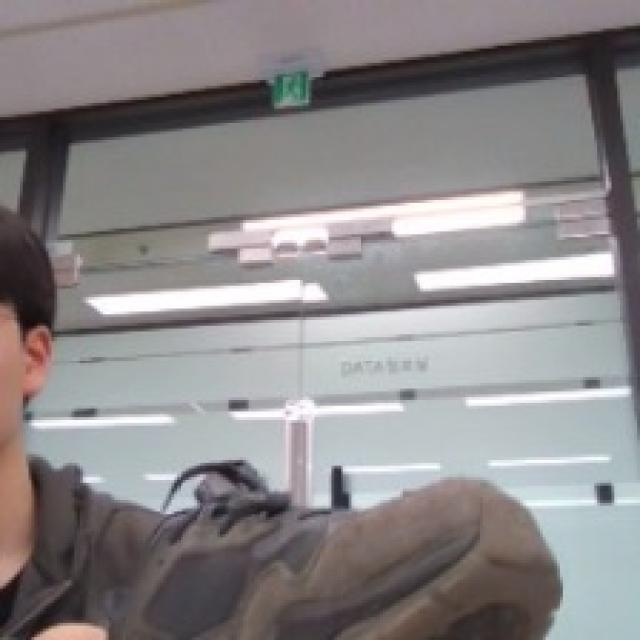shoe: (40, 434, 571, 640)
